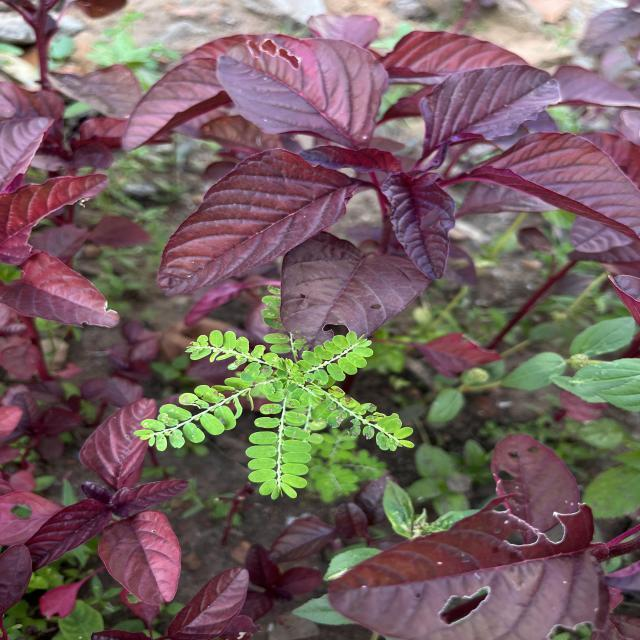Phyllanthus niruri: (243, 398, 314, 502), (314, 383, 417, 453), (132, 385, 238, 453), (180, 328, 281, 382), (294, 330, 374, 384)
